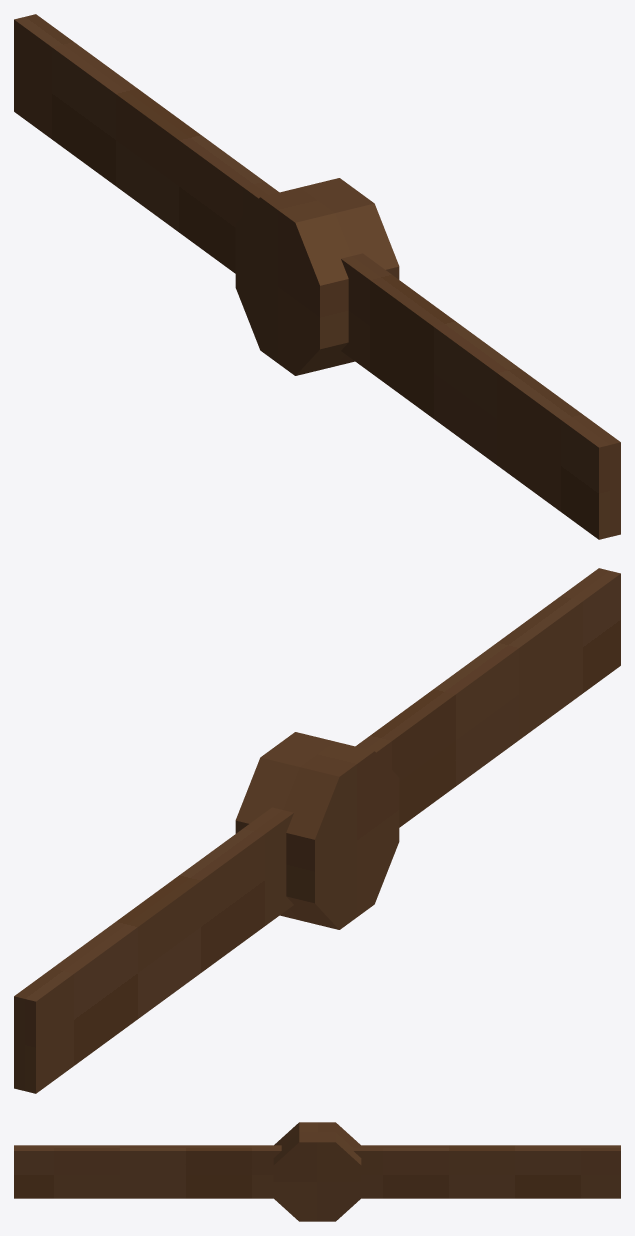
File: SM_Bomber_PropWing.fbx
3 views of the same model, one above another, from view 1: azimuth 30°, elevation 25°; view 2: azimuth 150°, elevation 25°; view 3: azimuth 270°, elevation 25° (orthographic). The views are drawn at different scales.
Visible parts, largest first — view 1: SM_Bomber_PropWing; view 2: SM_Bomber_PropWing; view 3: SM_Bomber_PropWing.
Part boxes in pixels (left/top/right/bottom): SM_Bomber_PropWing: left=14, top=14, right=620, bottom=539; SM_Bomber_PropWing: left=14, top=568, right=620, bottom=1093; SM_Bomber_PropWing: left=14, top=1122, right=620, bottom=1221.
Bounding box in the file's own units: 18 × 33.26 × 230.
